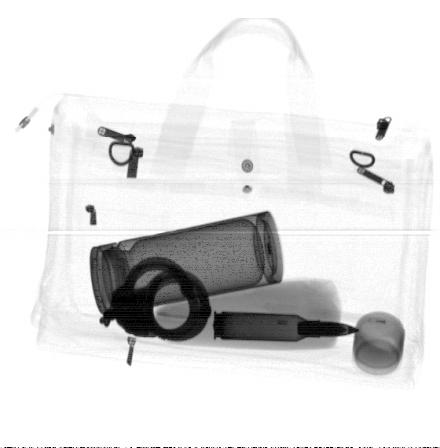Bullet: (213, 313, 361, 341)
HandCuffs: (97, 256, 211, 344)
